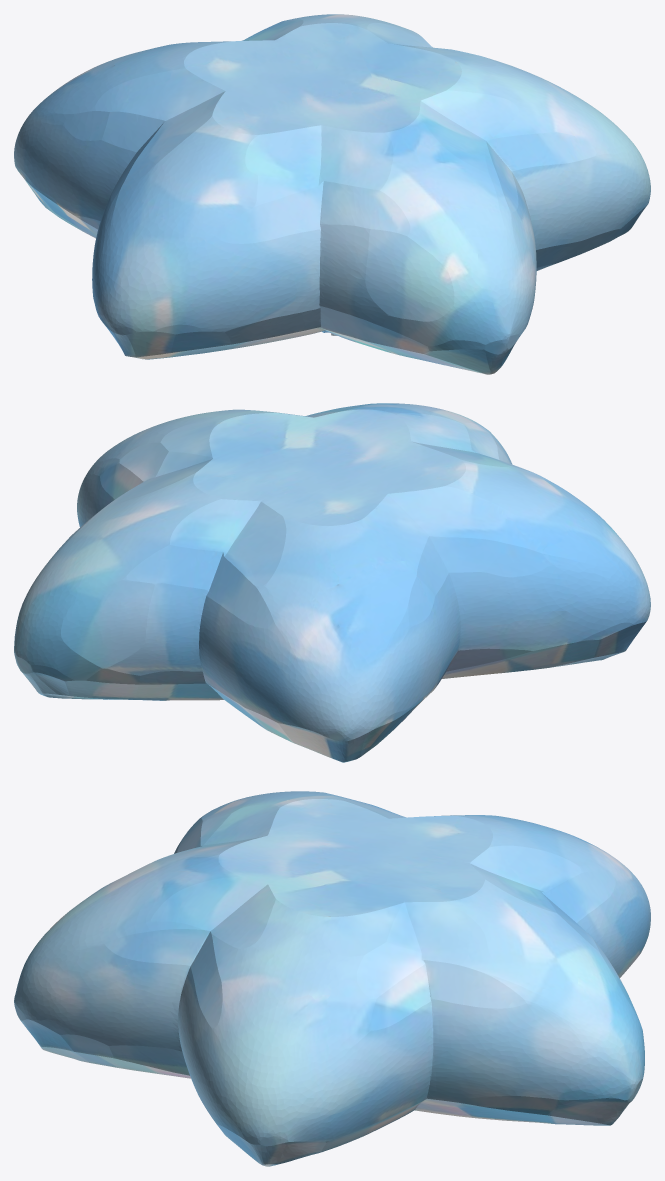
File: star_2.glb
3 views of the same model, one above another, from view 1: azimuth 30°, elevation 25°; view 2: azimuth 150°, elevation 25°; view 3: azimuth 270°, elevation 25° (orthographic). The views are drawn at different scales.
Parts seen in each view (by area): view 1: tripo_node_06b85730-13f6-4db9-af49-f99f4c4da484; view 2: tripo_node_06b85730-13f6-4db9-af49-f99f4c4da484; view 3: tripo_node_06b85730-13f6-4db9-af49-f99f4c4da484.
Boxes of the visible parts, x1=… form: tripo_node_06b85730-13f6-4db9-af49-f99f4c4da484: x1=14, y1=14, x2=650, y2=374; tripo_node_06b85730-13f6-4db9-af49-f99f4c4da484: x1=14, y1=403, x2=650, y2=762; tripo_node_06b85730-13f6-4db9-af49-f99f4c4da484: x1=14, y1=791, x2=650, y2=1166.
Bounding box in the file's own units: 0.9719 × 0.3531 × 0.9571.
1 material, 1 textured.
